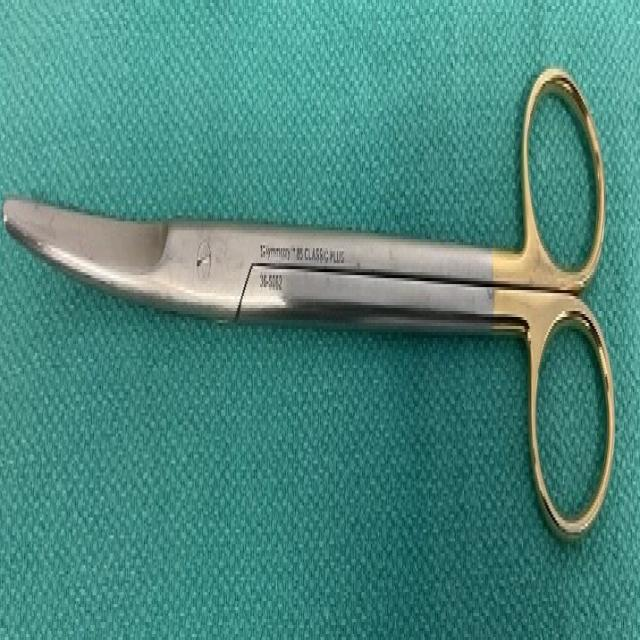Curved Mayo: (2, 61, 622, 543)
